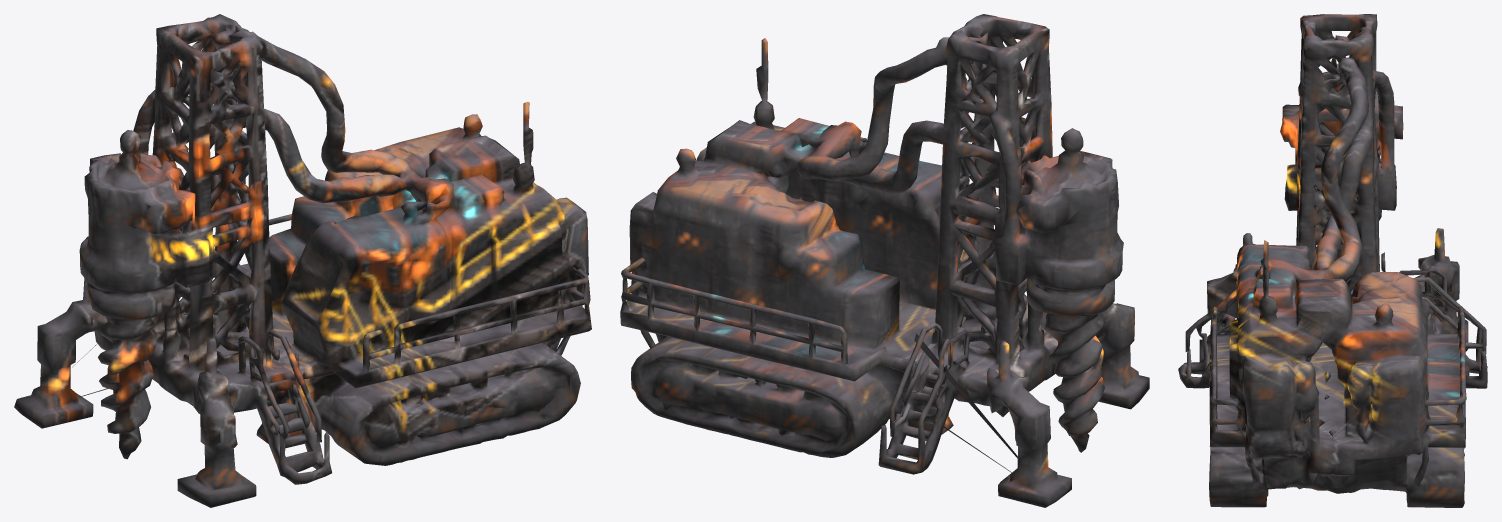
The model's file is Prop_DrillRig.fbx.
3 views of the same model, side by side, from view 1: azimuth 30°, elevation 25°; view 2: azimuth 150°, elevation 25°; view 3: azimuth 270°, elevation 25° (orthographic). The views are drawn at different scales.
Visible parts, largest first — view 1: Prop_DrillRig; view 2: Prop_DrillRig; view 3: Prop_DrillRig.
Part boxes in pixels (x1,y1,x2,y2): Prop_DrillRig: (14,14,591,507); Prop_DrillRig: (620,14,1149,507); Prop_DrillRig: (1178,14,1487,507).
Size of the model in its own units: 7.06 by 6 by 4.64.
